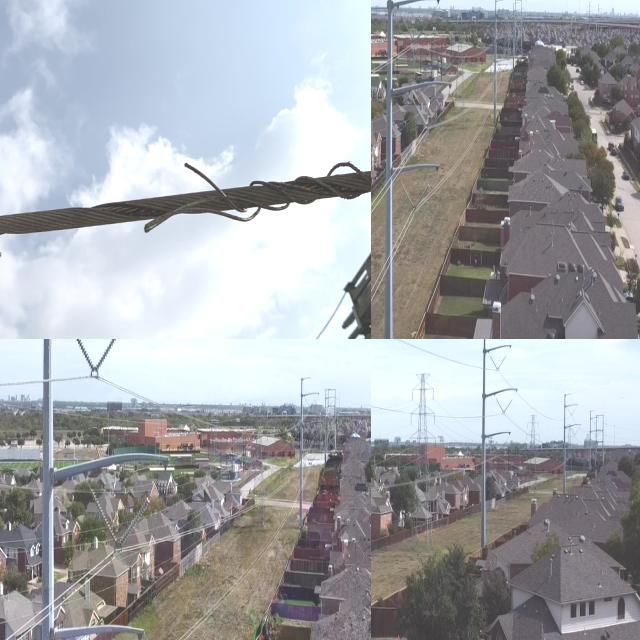杆塔: (408, 368, 438, 552), (524, 408, 541, 500)
正常绝缘子: (112, 488, 156, 553), (87, 478, 122, 552), (87, 339, 119, 384), (73, 339, 99, 380), (411, 12, 435, 49), (410, 180, 433, 216), (397, 176, 417, 214), (423, 99, 444, 133), (410, 93, 429, 130), (398, 13, 417, 47), (410, 387, 414, 405), (431, 386, 435, 403), (432, 412, 436, 428), (433, 436, 437, 452), (409, 411, 413, 426)
电缆破损: (129, 140, 369, 246)
